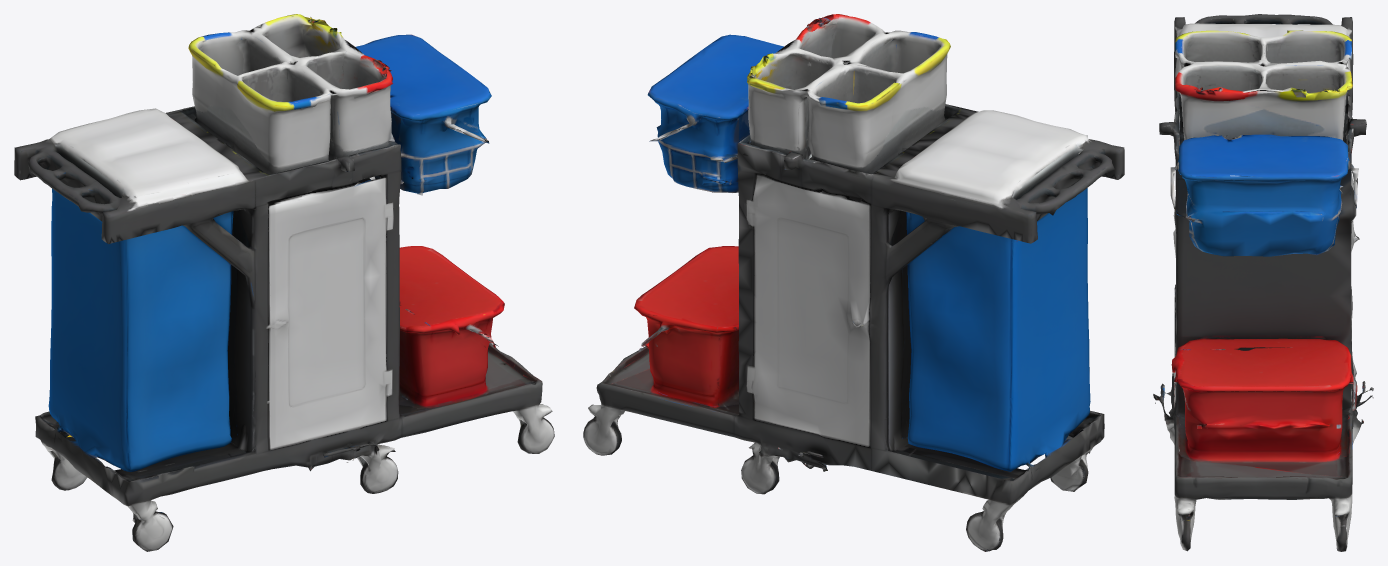
Rendered from Meshy_AI_Cleaning_Cart_0102212330_texture.fbx.
3 renders of one model, left to right at view 1: azimuth 30°, elevation 25°; view 2: azimuth 150°, elevation 25°; view 3: azimuth 270°, elevation 25°, orthographic. The views are drawn at different scales.
Parts seen in each view (by area): view 1: Mesh0; view 2: Mesh0; view 3: Mesh0.
Boxes of the visible parts, <box> form: Mesh0: <box>14,14,554,551</box>; Mesh0: <box>583,14,1124,551</box>; Mesh0: <box>1153,14,1373,551</box>.
Bounding box in the file's own units: 191 × 166 × 83.36.
1 material, 1 textured.
